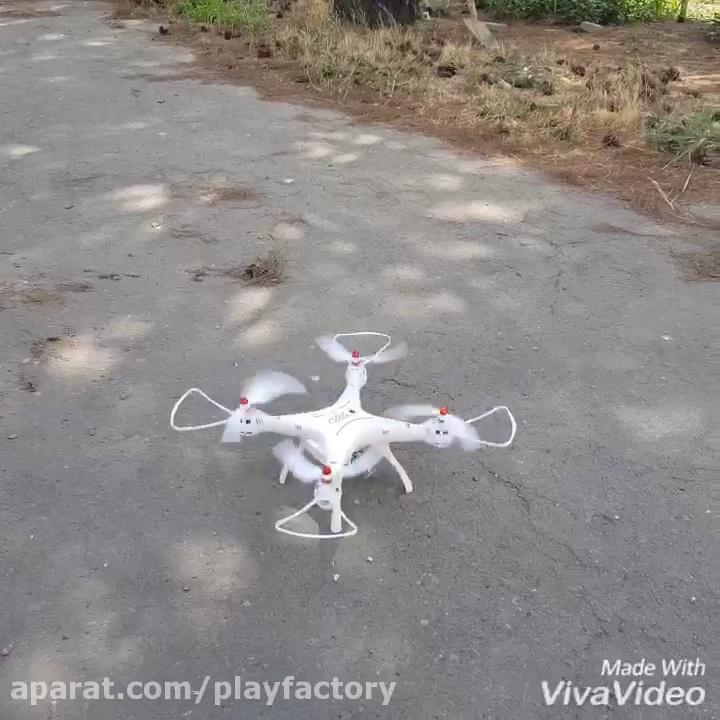drone: (165, 327, 521, 542)
